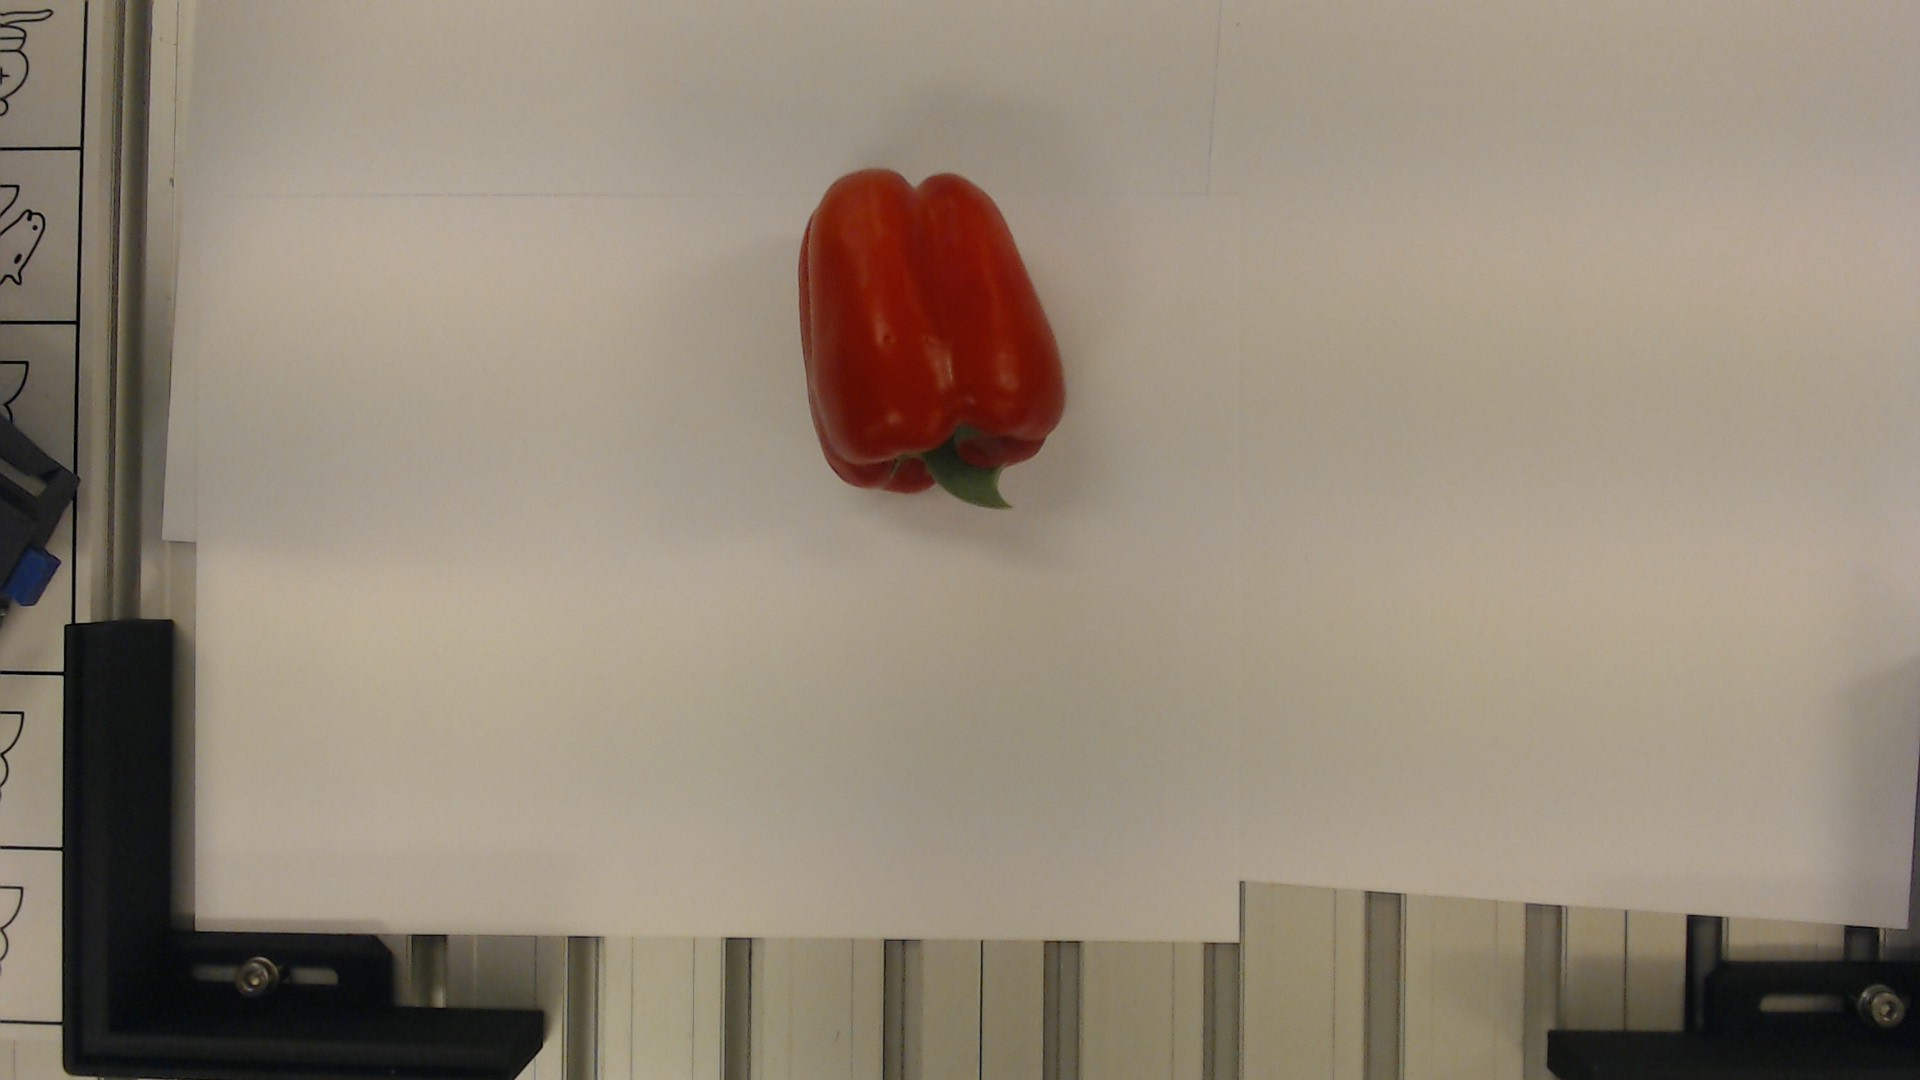Red Bell Pepper: (786, 161, 1075, 517)
